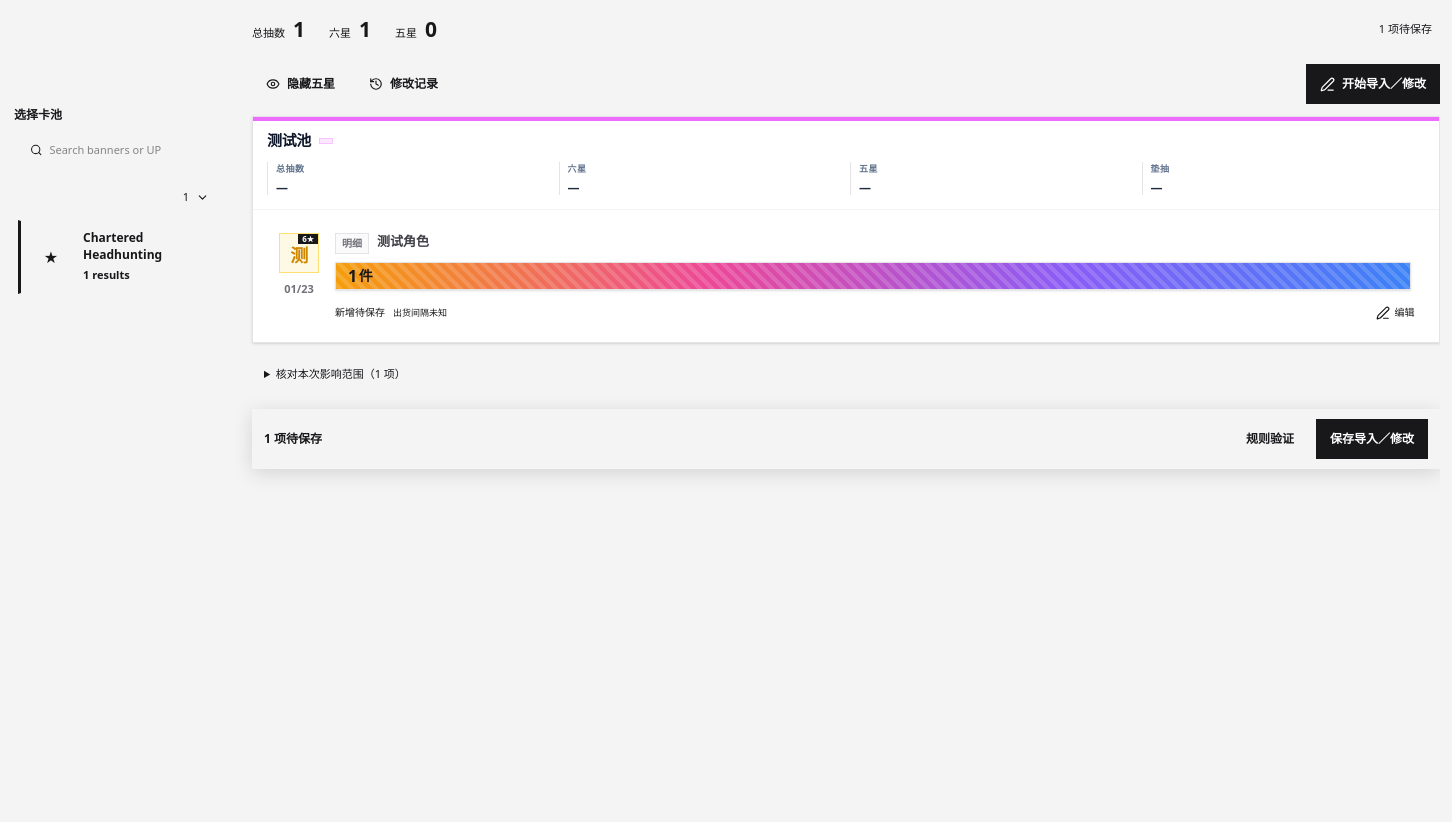
Test: workbench account workspace › does not submit if the browser cannot retain the exact pending transaction
The width and height of the screenshot is (1452, 822).
Expected: the button "开始导入／修改" is enabled, [1306,64,1440,104]
Click the button "规则验证".
click(1270, 439)  # box [1232,419,1308,459]
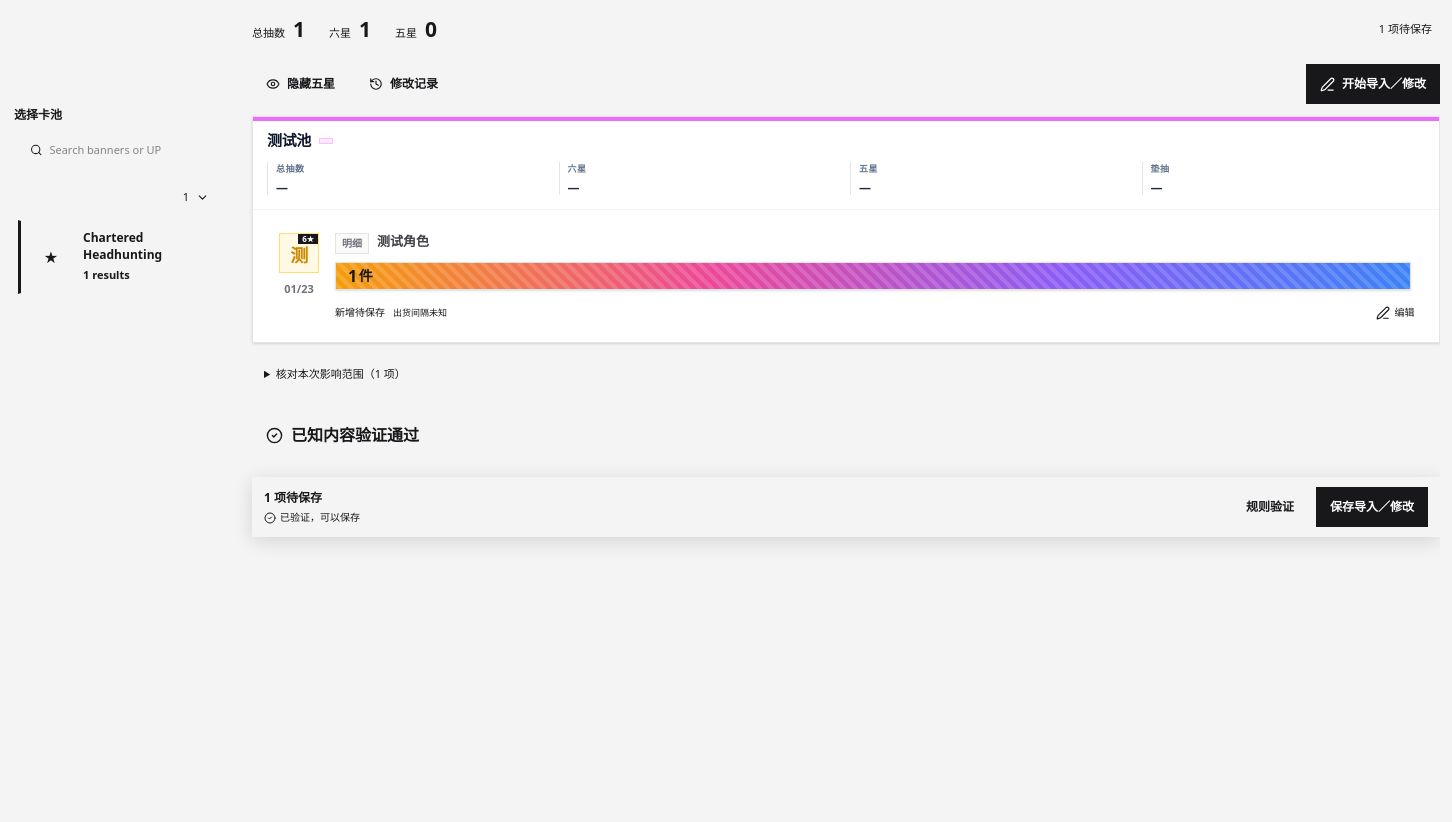
Result: the element named "规则验证结果" is shown at [266,424,419,446]
Click the button "保存导入／修改".
click(1372, 507)  # box [1316,487,1428,527]
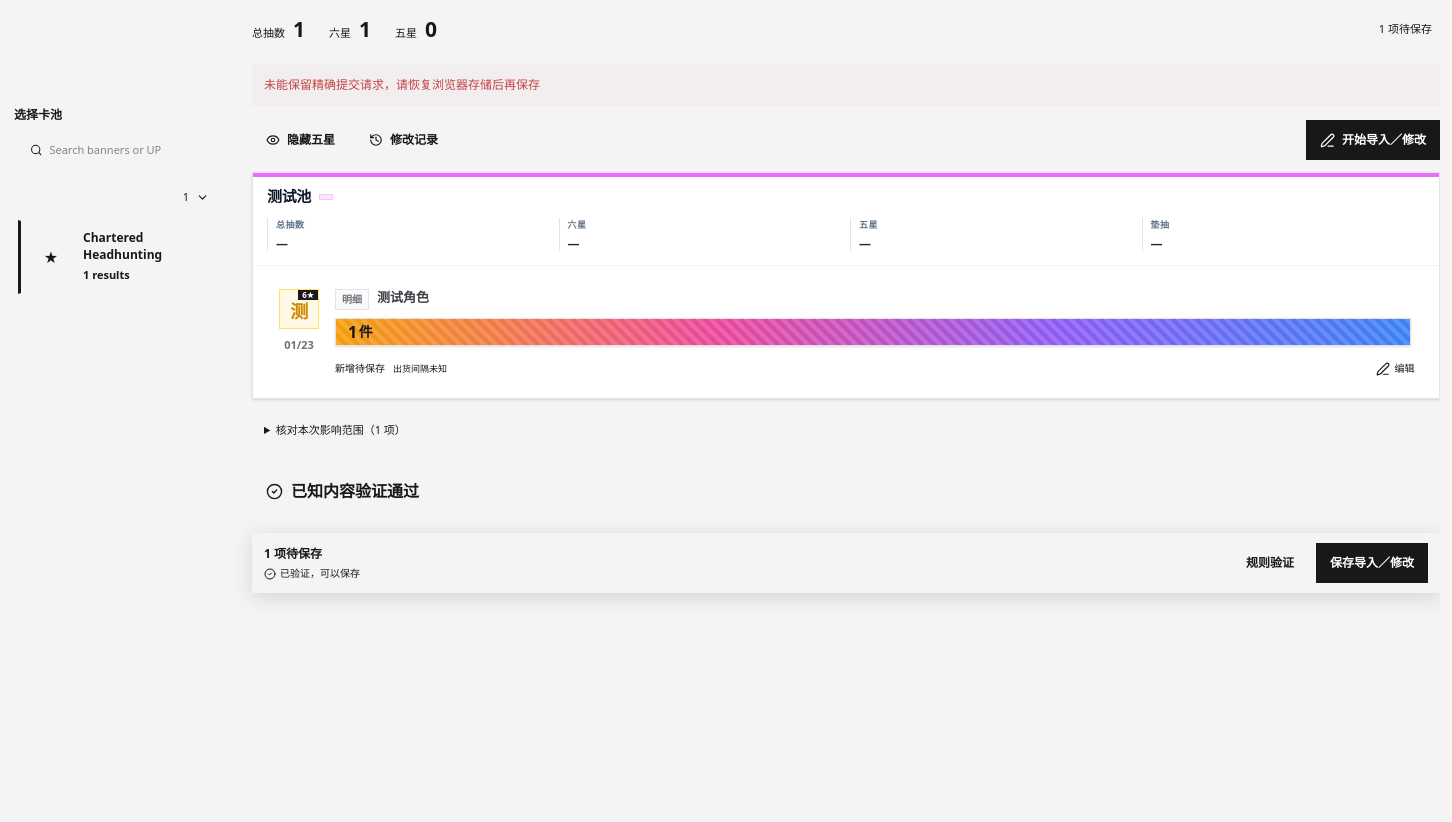
Result: the message shows "未能保留精确提交请求" at [264,76,540,93]
